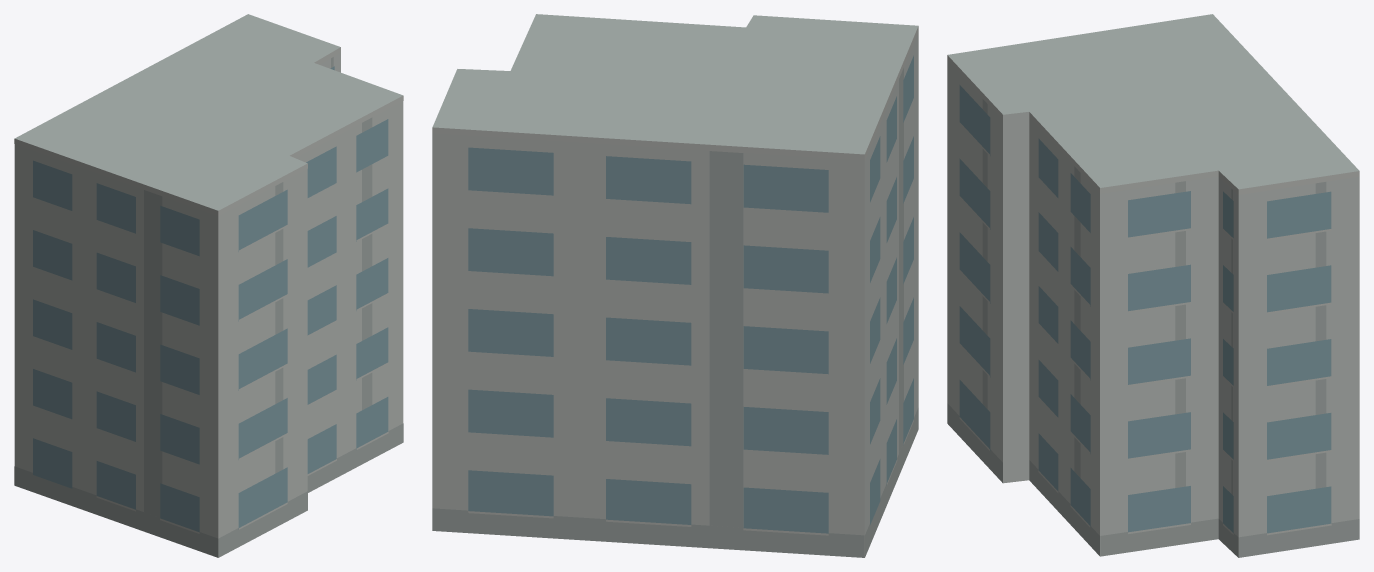
The model's file is survey-upis-32844777.glb.
3 renders of one model, left to right at view 1: azimuth 30°, elevation 25°; view 2: azimuth 150°, elevation 25°; view 3: azimuth 270°, elevation 25°, orthographic. The views are drawn at different scales.
Visible parts, largest first — view 1: survey-upis-32844777.tmp; view 2: survey-upis-32844777.tmp; view 3: survey-upis-32844777.tmp.
Boxes of the visible parts, left/top/right/bottom form: survey-upis-32844777.tmp: left=14, top=14, right=403, bottom=557; survey-upis-32844777.tmp: left=432, top=14, right=918, bottom=557; survey-upis-32844777.tmp: left=947, top=14, right=1359, bottom=557.
Size of the model in its own units: 16.03 by 15.7 by 15.93.
